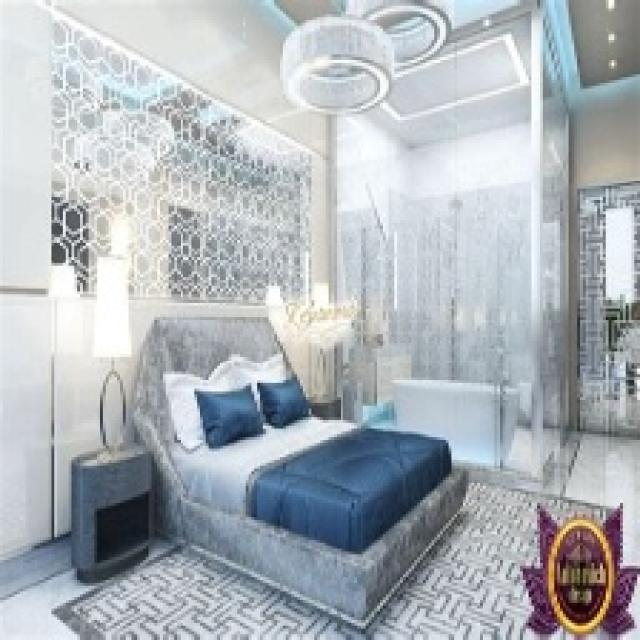Bed: (128, 314, 468, 632)
